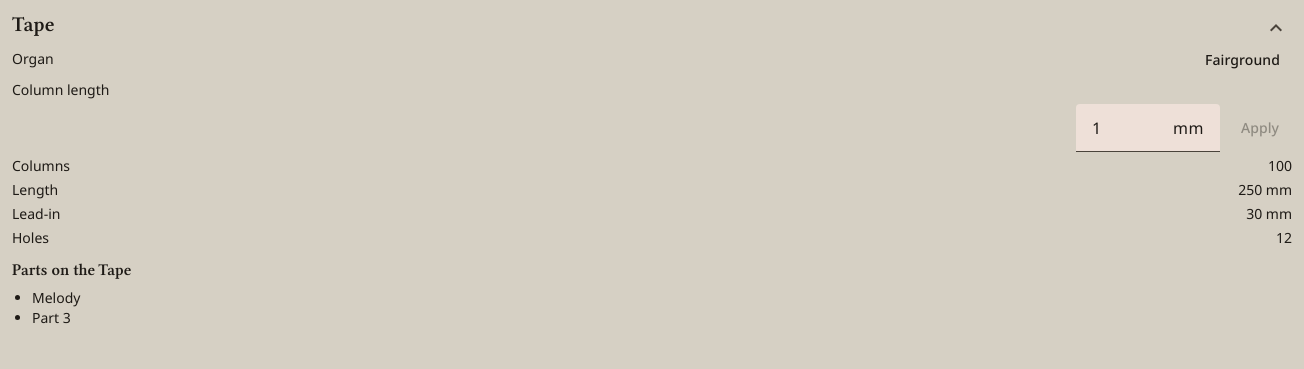
Scenario: TapeSectionComponent › changing the Column length (T006) › the hint of the Cutting Problems (T013) › shows the same count when the typed Column length keeps the Cutting Problems
Replace the text in the field with test id "column-length-input" with "1.5" at (1133,128), box [1092, 116, 1173, 140]
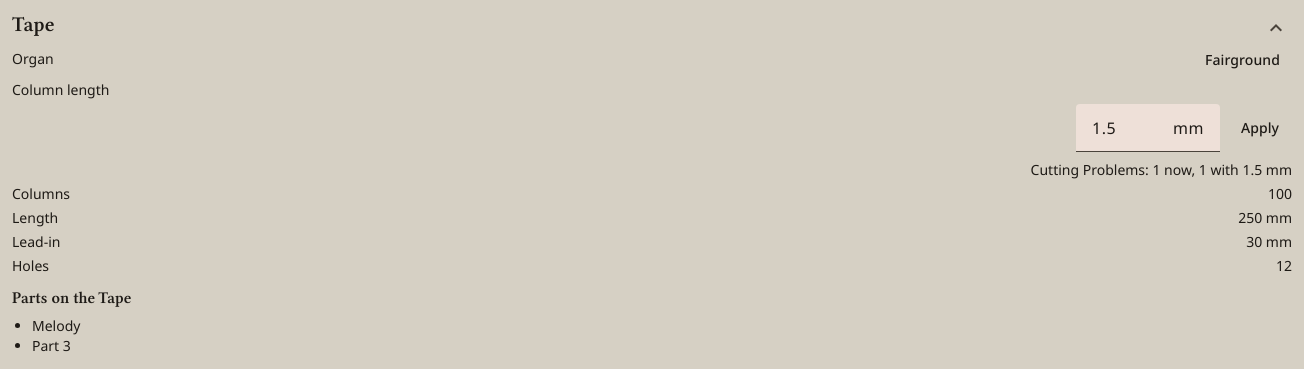
Check: the text with test id "column-length-hint" reads "Cutting Problems: 1 now, 1 with 1.5 mm", box [1031, 160, 1292, 179]
